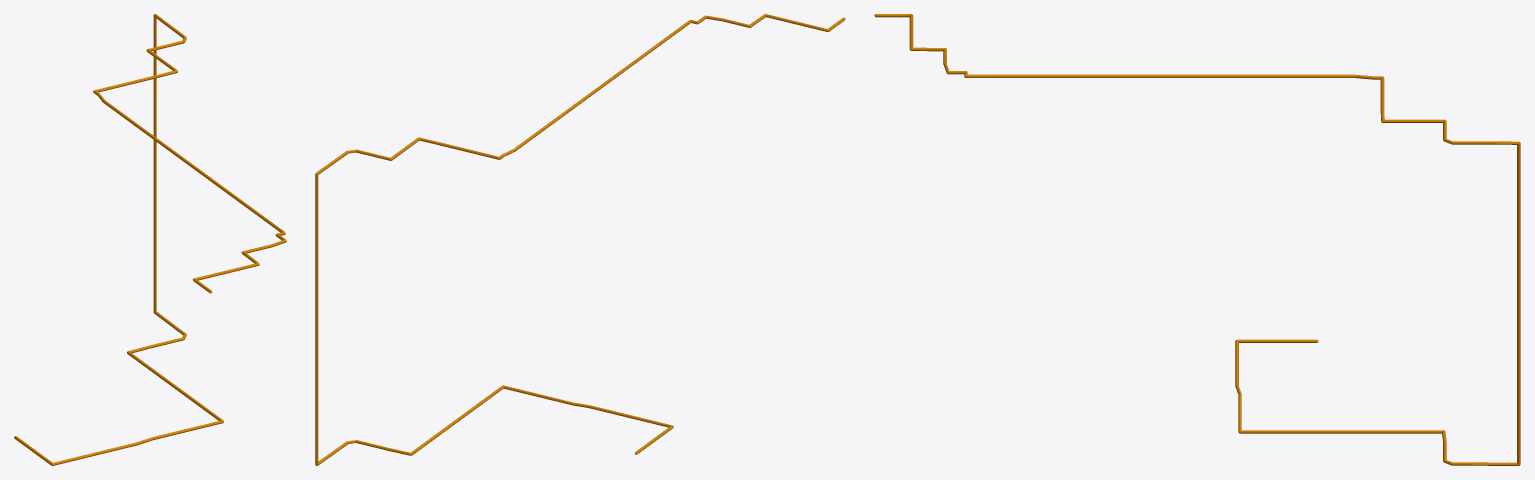
3 views of the same model, side by side, from view 1: azimuth 30°, elevation 25°; view 2: azimuth 150°, elevation 25°; view 3: azimuth 270°, elevation 25° (orthographic). The views are drawn at different scales.
Size of the model in its own units: 1723 by 2020 by 3648.
